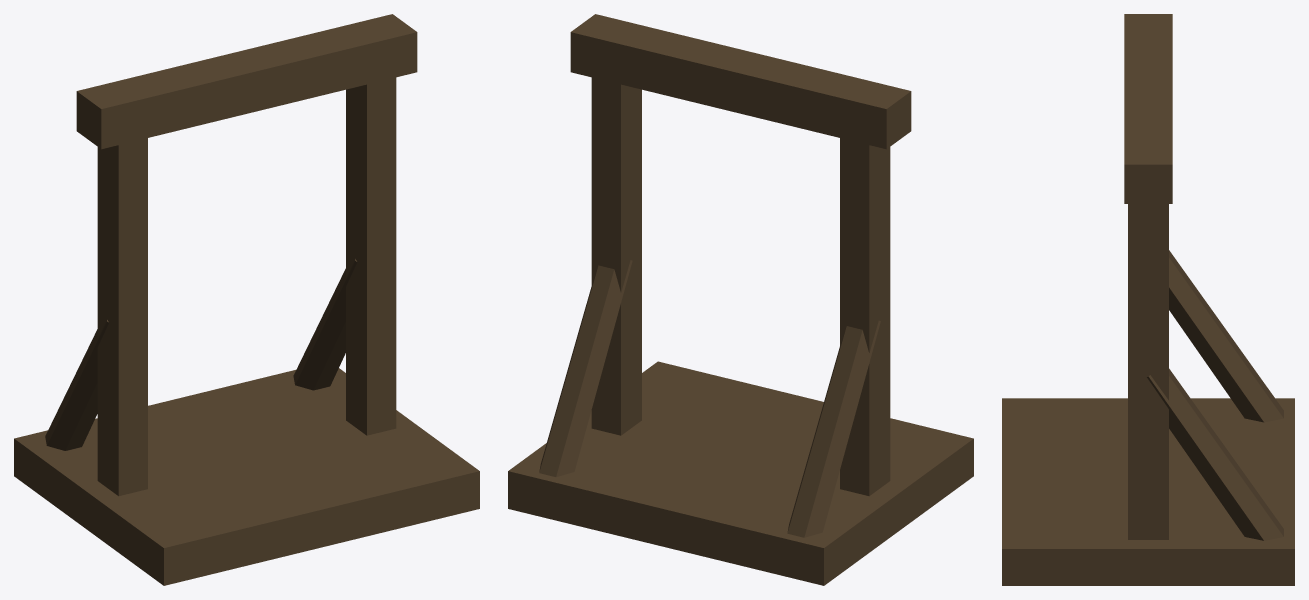
Rendered from strange_landing.glb.
The picture shows the model from 3 angles, left to right: view 1: azimuth 30°, elevation 25°; view 2: azimuth 150°, elevation 25°; view 3: azimuth 270°, elevation 25°; orthographic projection. The views are drawn at different scales.
Parts seen in each view (by area): view 1: strange_landing; view 2: strange_landing; view 3: strange_landing.
Part boxes in pixels (x1,y1,x2,y2): strange_landing: (14, 14, 479, 585); strange_landing: (508, 14, 973, 585); strange_landing: (1002, 14, 1294, 585).
Bounding box in the file's own units: 1.4 × 1.83 × 1.15.
